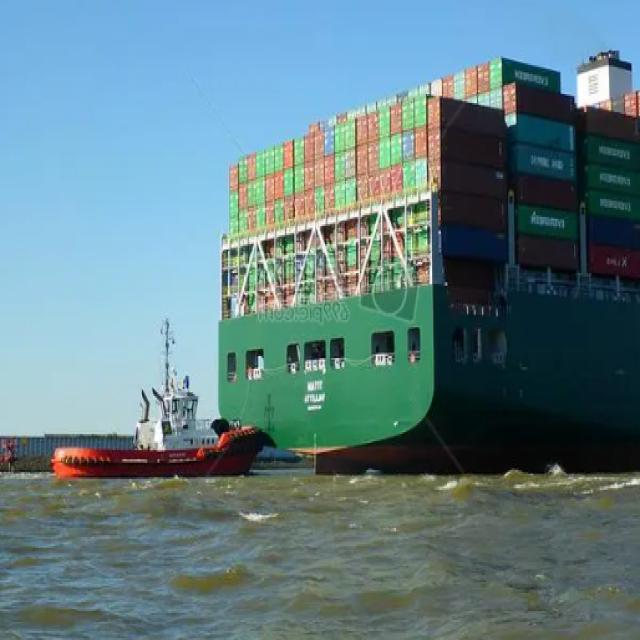cargoship: (199, 13, 640, 486)
fishing boat: (14, 332, 263, 492)
